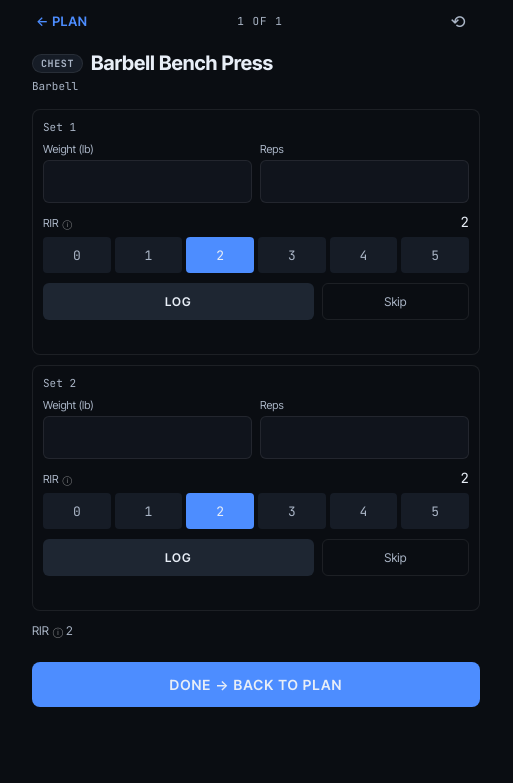
Test case: <TodayLoggerMobile> › focus screen › shows "Logged · locked" with pointer to Settings when the queue status mock returns "synced"
The width and height of the screenshot is (513, 783).
In the number field named "weight in pounds": [148, 182] box [43, 160, 252, 203], type "185"
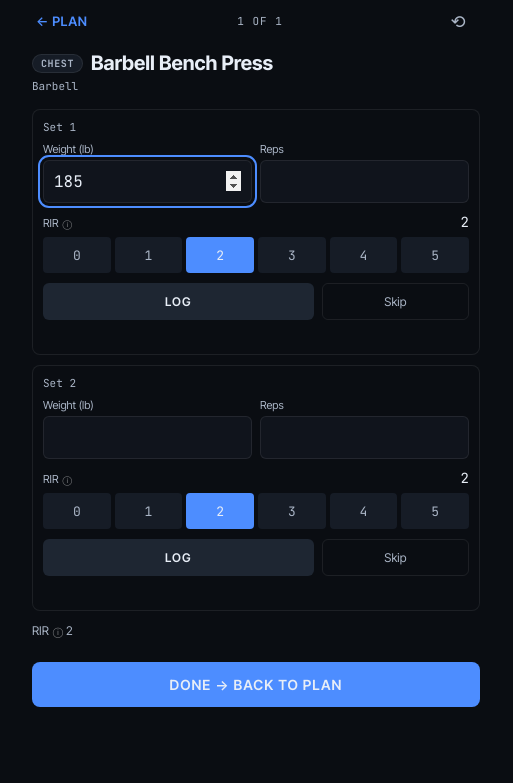
In the number field named "Set 1 reps": [364, 182] box [260, 160, 469, 203], type "7"
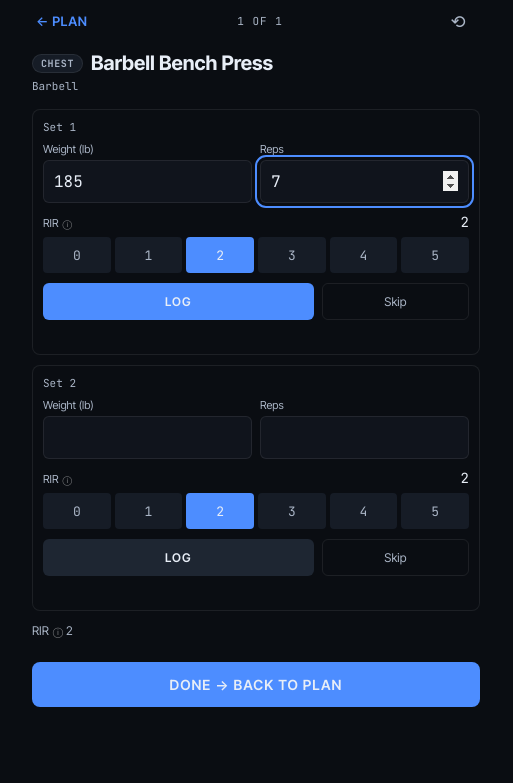
Click the 1st button "Log": [178, 302] box [43, 283, 314, 320]
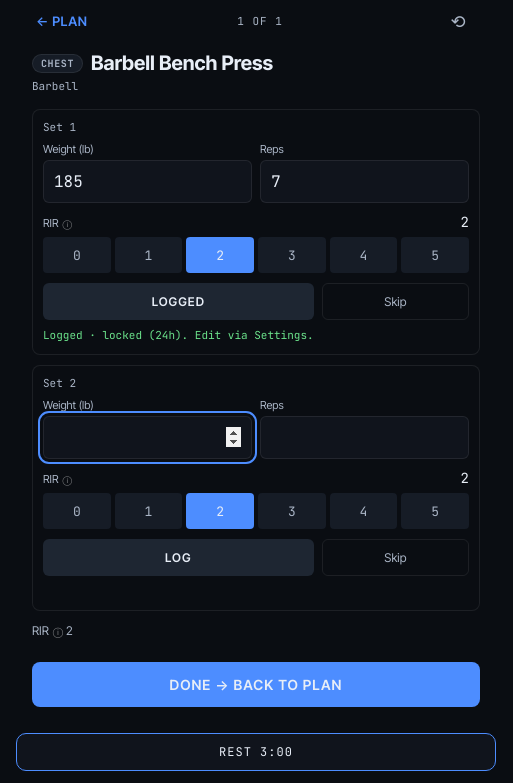
Check: the message with test id "set-row-0-status" shows "Edit via Settings", box [43, 328, 314, 342]
